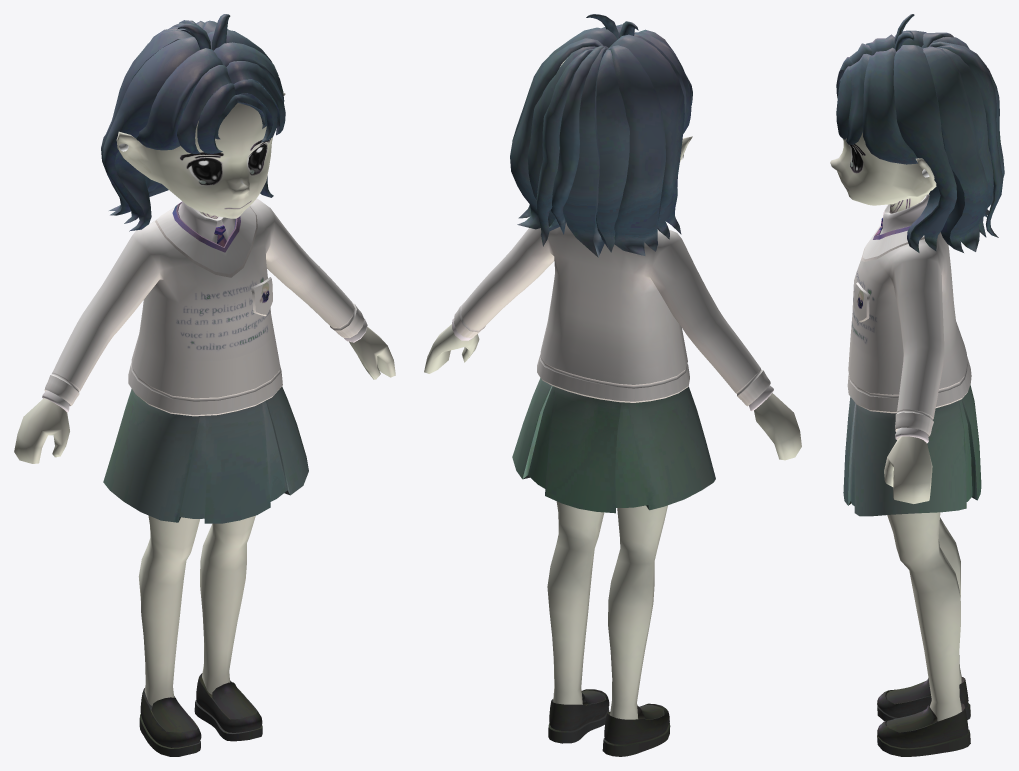
File: Milady.gltf
3 renders of one model, left to right at view 1: azimuth 30°, elevation 25°; view 2: azimuth 150°, elevation 25°; view 3: azimuth 270°, elevation 25°, orthographic.
Visible parts, largest first — view 1: Body_36338; view 2: Body_36338; view 3: Body_36338.
Part boxes in pixels (bbox=[...]): Body_36338: bbox=[14, 14, 395, 756]; Body_36338: bbox=[424, 14, 801, 756]; Body_36338: bbox=[830, 14, 1004, 756].
Bounding box in the file's own units: 0.8501 × 1.58 × 0.3528.
Materials: 1 (1 with a texture image).
